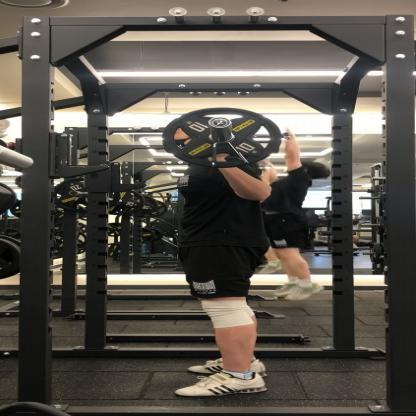Barbell: (208, 116, 236, 132)
